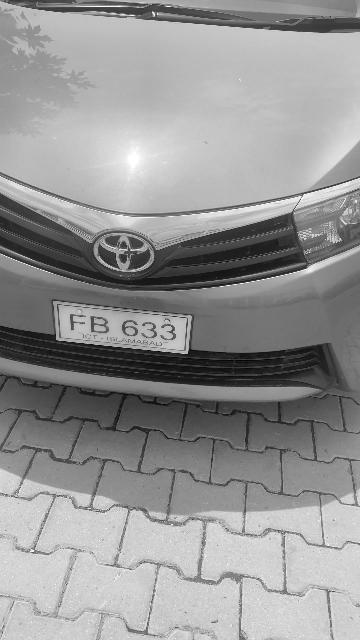Number: (67, 313, 180, 344)
